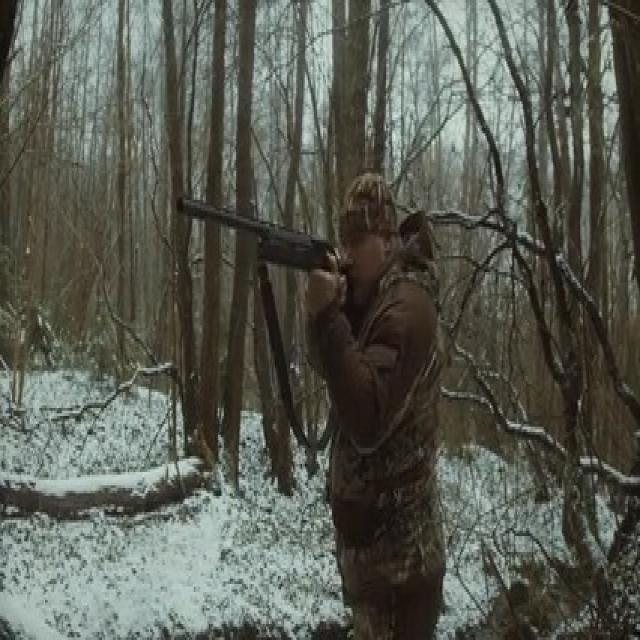Gun_Holder: (177, 187, 344, 331)
Person: (301, 164, 454, 630)
